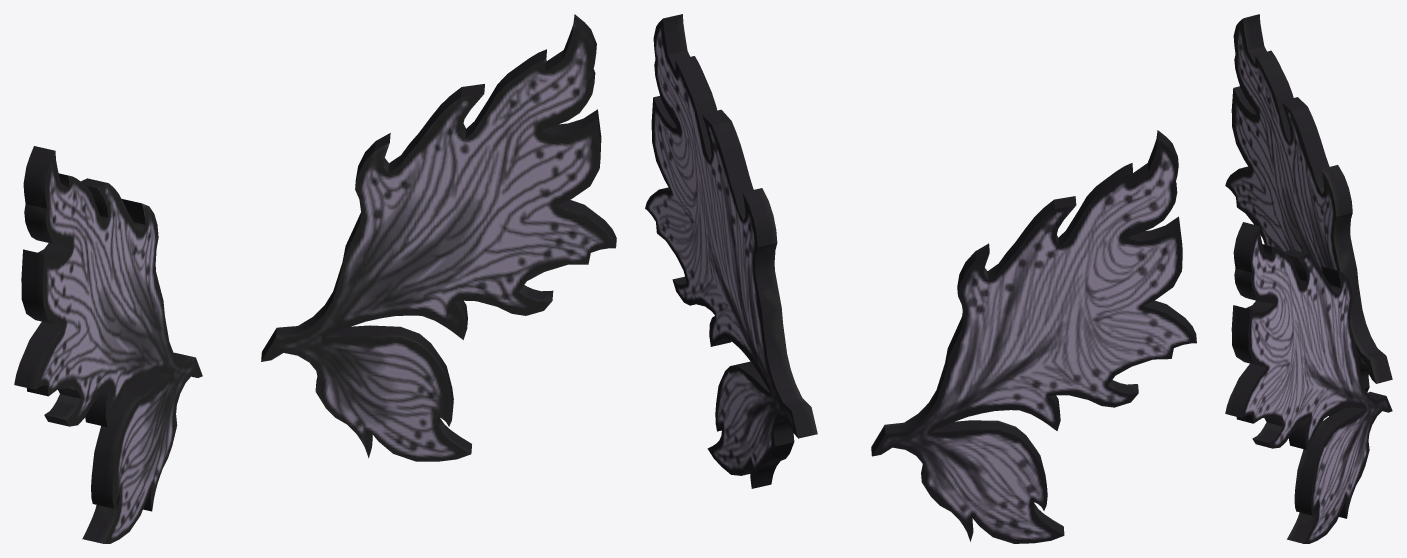
3 renders of one model, left to right at view 1: azimuth 30°, elevation 25°; view 2: azimuth 150°, elevation 25°; view 3: azimuth 270°, elevation 25°, orthographic. The views are drawn at different scales.
Parts seen in each view (by area): view 1: Mesh; view 2: Mesh; view 3: Mesh.
Part boxes in pixels (x1=…): Mesh: x1=14, y1=14, x2=616, y2=543; Mesh: x1=645, y1=14, x2=1196, y2=543; Mesh: x1=1225, y1=14, x2=1392, y2=543.
Size of the model in its own units: 4.42 by 3.08 by 1.32.
